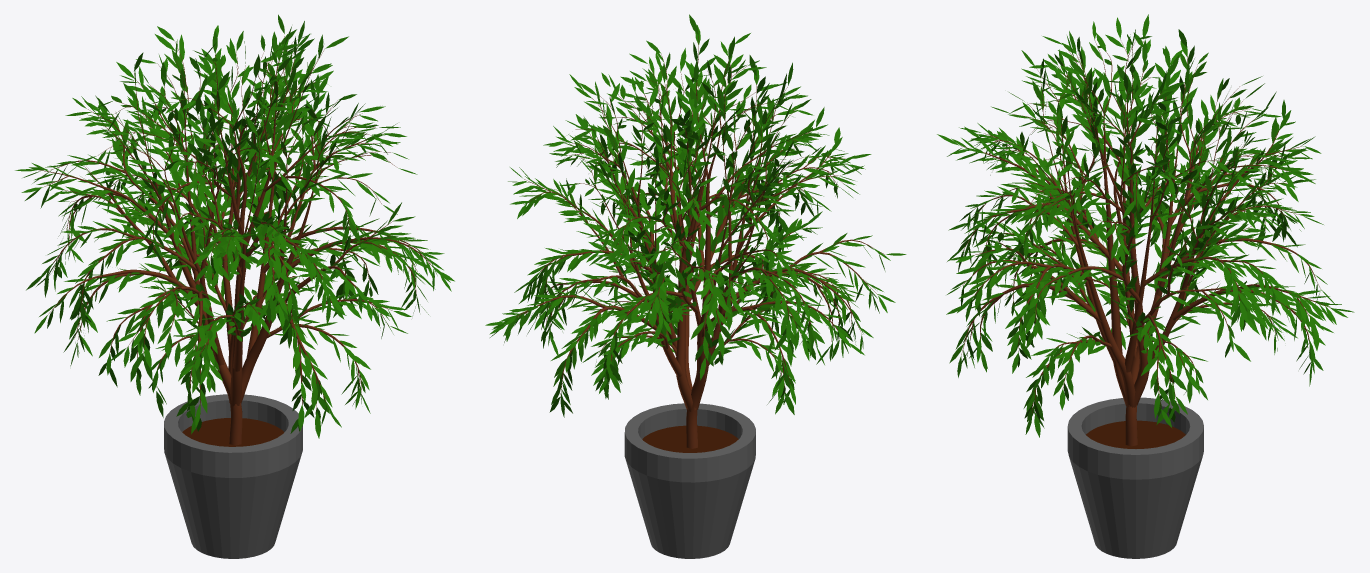
Rendered from Tanaman Pot.fbx.
3 renders of one model, left to right at view 1: azimuth 30°, elevation 25°; view 2: azimuth 150°, elevation 25°; view 3: azimuth 270°, elevation 25°, orthographic. The views are drawn at different scales.
Parts seen in each view (by area): view 1: leaves, tree, Cylinder; view 2: leaves, tree, Cylinder; view 3: leaves, tree, Cylinder.
Part boxes in pixels (x1,y1,x2,y2): leaves: [15, 14, 454, 438]; tree: [39, 36, 432, 445]; Cylinder: [164, 394, 302, 558]; leaves: [485, 14, 906, 417]; tree: [516, 36, 884, 448]; Cylinder: [624, 403, 755, 558]; leaves: [937, 14, 1354, 437]; tree: [960, 39, 1332, 446]; Cylinder: [1067, 397, 1203, 558].
Size of the model in its own units: 585 by 841 by 614.
